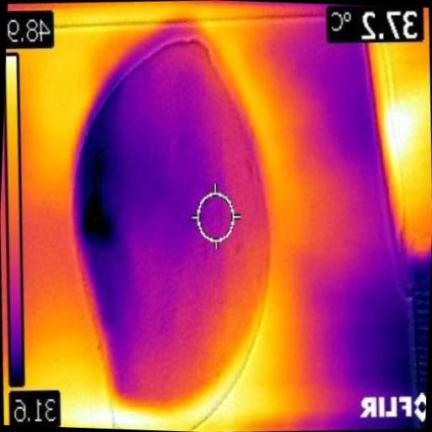mango: (75, 27, 269, 406)
